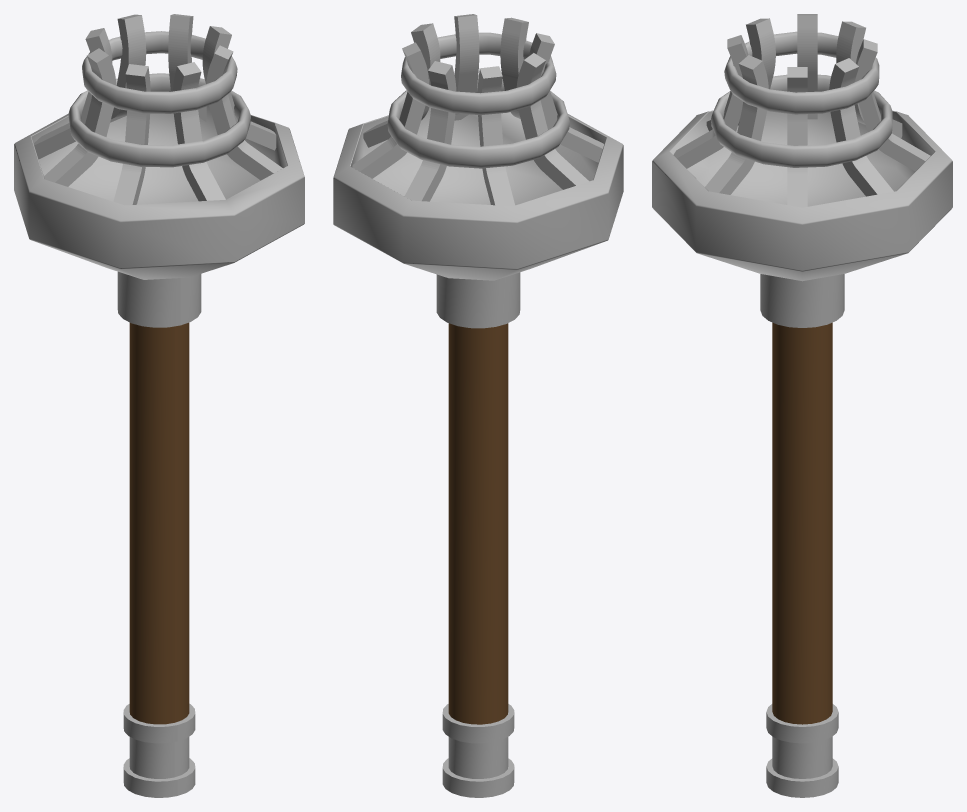
The model's file is Torch.glb.
The picture shows the model from 3 angles, left to right: view 1: azimuth 30°, elevation 25°; view 2: azimuth 150°, elevation 25°; view 3: azimuth 270°, elevation 25°; orthographic projection.
Visible parts, largest first — view 1: Cylindrical Lathe, SplineTorch, Spline 2D (×8), Torus (×2), Cylinder (×3), Stake; view 2: Cylindrical Lathe, SplineTorch, Spline 2D (×8), Torus (×2), Cylinder (×3), Stake; view 3: Cylindrical Lathe, SplineTorch, Spline 2D (×8), Torus (×2), Cylinder (×3), Stake.
Part boxes in pixels (x1,y1,x2,y2): Cylindrical Lathe: (14, 105, 304, 279); SplineTorch: (129, 322, 189, 724); Spline 2D (×8): (33, 14, 282, 205); Torus (×2): (68, 31, 250, 167); Cylinder (×3): (123, 703, 195, 797); Stake: (117, 271, 201, 327); Cylindrical Lathe: (333, 107, 623, 280); SplineTorch: (448, 323, 508, 724); Spline 2D (×8): (352, 14, 603, 206); Torus (×2): (387, 32, 569, 168); Cylinder (×3): (442, 704, 514, 797); Stake: (436, 272, 520, 328); Cylindrical Lathe: (652, 110, 952, 281); SplineTorch: (772, 322, 832, 724); Spline 2D (×8): (673, 14, 930, 207); Torus (×2): (711, 31, 892, 167); Cylinder (×3): (766, 704, 838, 797); Stake: (760, 274, 844, 327).
Bounding box in the file's own units: 0.25 × 0.6797 × 0.25.
